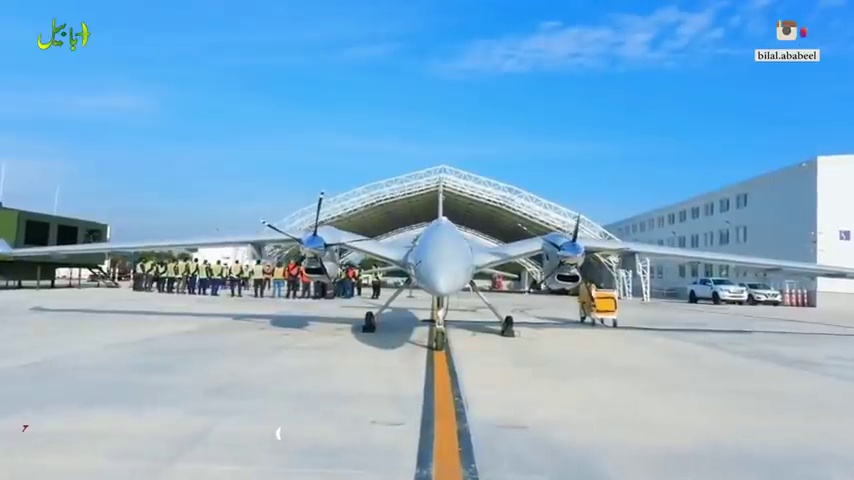military drone: (0, 175, 854, 350)
